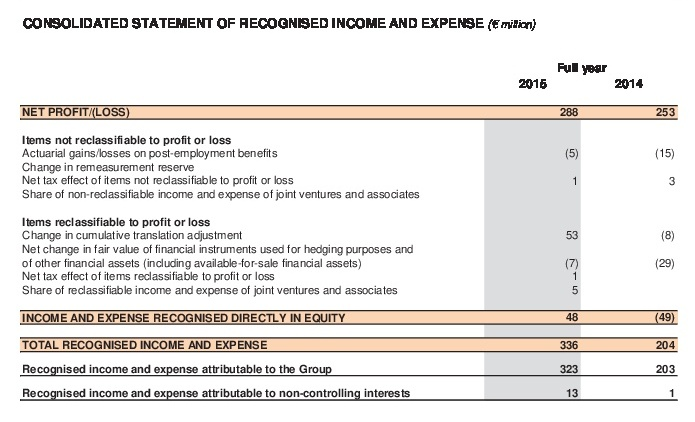table: (0, 0, 695, 422)
